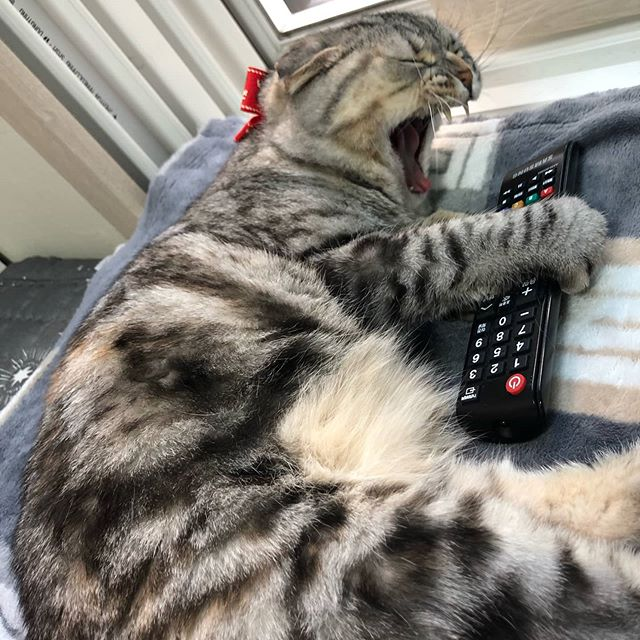cat: (282, 11, 479, 208)
